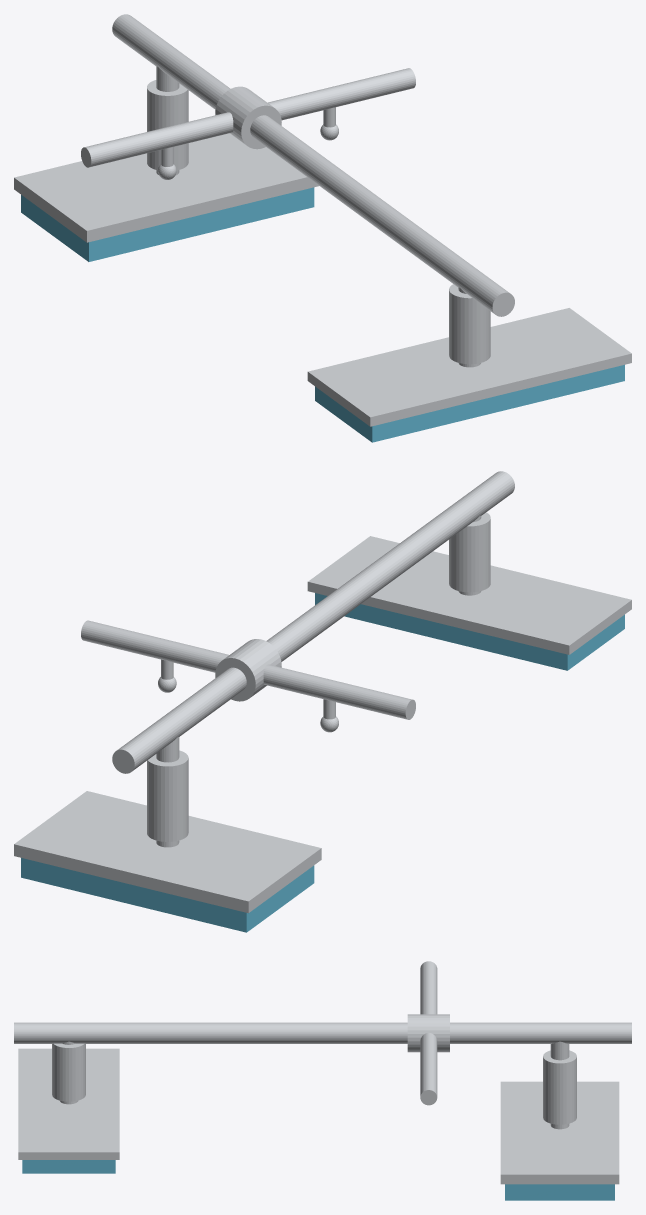
File: test_facemask.glb
The picture shows the model from 3 angles, top to bottom: view 1: azimuth 30°, elevation 25°; view 2: azimuth 150°, elevation 25°; view 3: azimuth 270°, elevation 25°; orthographic projection. The views are drawn at different scales.
Parts seen in each view (by area): view 1: Forehead_Backplate, Chin_Backplate, Main_Vertical_Rod, Horizontal_Crossbar, Chin_Pad, Forehead_Pad, Forehead_Clamp, Chin_Clamp, Crossbar_Collar; view 2: Chin_Backplate, Forehead_Backplate, Main_Vertical_Rod, Horizontal_Crossbar, Chin_Pad, Forehead_Pad, Chin_Clamp, Forehead_Clamp, Crossbar_Collar; view 3: Main_Vertical_Rod, Chin_Backplate, Forehead_Backplate, Chin_Clamp, Horizontal_Crossbar, Forehead_Clamp, Chin_Pad, Crossbar_Collar, Forehead_Pad, Cylinder.001.
Boxes of the visible parts, x1,y1,x2,y2 form: Forehead_Backplate: (307,308,631,426); Chin_Backplate: (14,133,318,242); Main_Vertical_Rod: (112,14,514,316); Horizontal_Crossbar: (81,68,415,167); Chin_Pad: (21,187,314,261); Forehead_Pad: (315,364,624,442); Forehead_Clamp: (449,284,490,364); Chin_Clamp: (147,80,188,170); Crossbar_Collar: (215,86,281,149); Chin_Backplate: (14,791,321,913); Forehead_Backplate: (307,536,631,654); Main_Vertical_Rod: (112,471,514,773); Horizontal_Crossbar: (81,620,415,719); Chin_Pad: (21,858,314,932); Forehead_Pad: (315,593,624,670); Chin_Clamp: (147,750,188,841); Forehead_Clamp: (449,512,490,592); Crossbar_Collar: (215,639,281,701); Main_Vertical_Rod: (14,1022,631,1043); Chin_Backplate: (500,1081,619,1184); Forehead_Backplate: (18,1048,119,1159); Chin_Clamp: (543,1050,576,1124); Horizontal_Crossbar: (420,961,437,1105); Forehead_Clamp: (52,1043,85,1101); Chin_Pad: (505,1184,614,1200); Crossbar_Collar: (407,1014,449,1052); Forehead_Pad: (22,1160,115,1173); Cylinder.001: (550,1041,569,1129).
Bounding box in the file's own units: 72 × 36.5 × 146.
